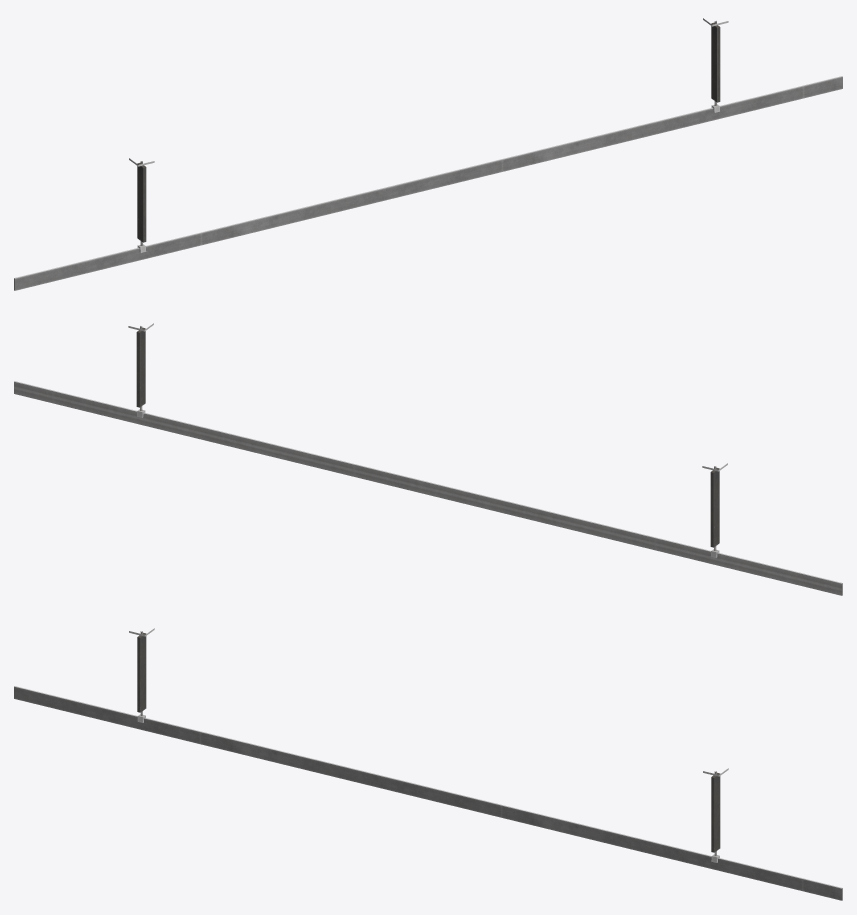
Rendered from SM_Roof_Target_Rail_Tracks_01d.glb.
3 views of the same model, one above another, from view 1: azimuth 30°, elevation 25°; view 2: azimuth 150°, elevation 25°; view 3: azimuth 330°, elevation 25° (orthographic).
Visible parts, largest first — view 1: SM_Roof_Target_Rail_Tracks_01d; view 2: SM_Roof_Target_Rail_Tracks_01d; view 3: SM_Roof_Target_Rail_Tracks_01d.
Part boxes in pixels (x1,y1,x2,y2): SM_Roof_Target_Rail_Tracks_01d: (14,18,842,290); SM_Roof_Target_Rail_Tracks_01d: (14,323,842,595); SM_Roof_Target_Rail_Tracks_01d: (14,628,842,900).
Bounding box in the file's own units: 7.5 × 0.8663 × 0.1469.
Materials: 1 (1 with a texture image).
